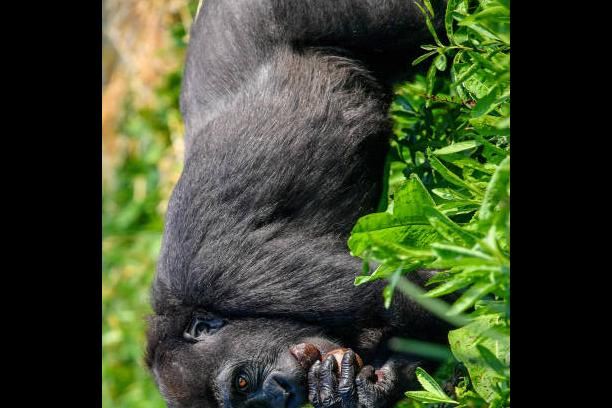gorille_Autres: (124, 0, 470, 408)
